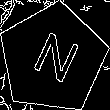N_SW: (24, 27, 81, 90)
